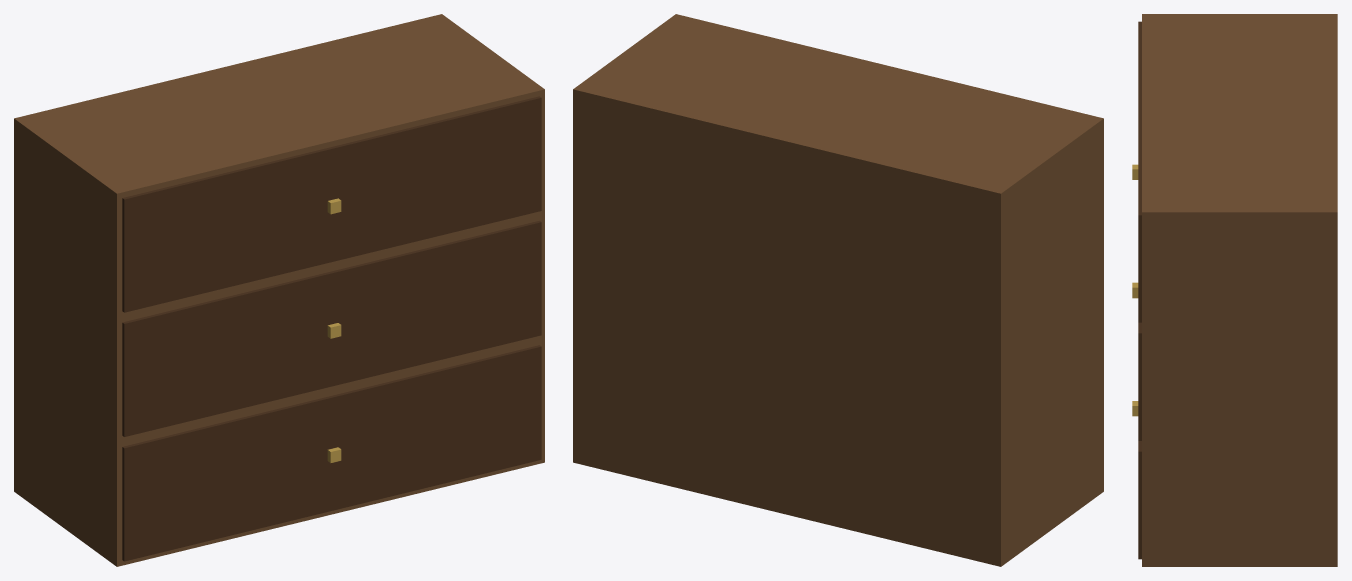
The model's file is dresser.glb.
The picture shows the model from 3 angles, left to right: view 1: azimuth 30°, elevation 25°; view 2: azimuth 150°, elevation 25°; view 3: azimuth 270°, elevation 25°; orthographic projection. The views are drawn at different scales.
Parts seen in each view (by area): view 1: dresser; view 2: dresser; view 3: dresser.
Part boxes in pixels (box(x1,y1,x2,y2)): dresser: box(14, 14, 544, 566); dresser: box(573, 14, 1103, 566); dresser: box(1132, 14, 1337, 566).
Size of the model in its own units: 1.2 by 1 by 0.525.
